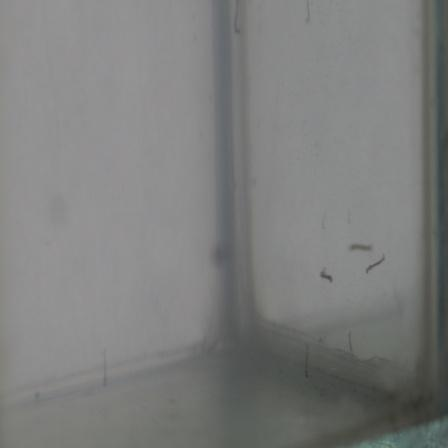Jentik-Nyamuk: (318, 265, 335, 289)
